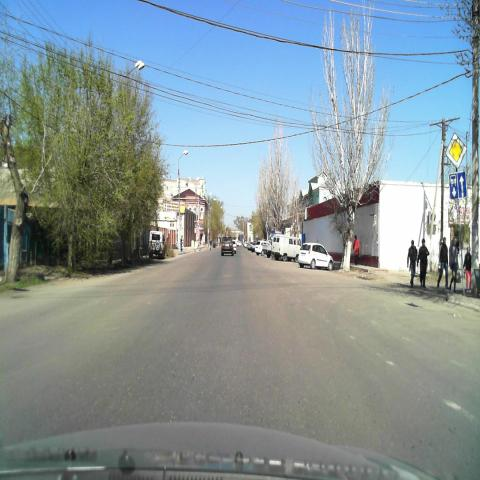5_11: (448, 170, 466, 201)
